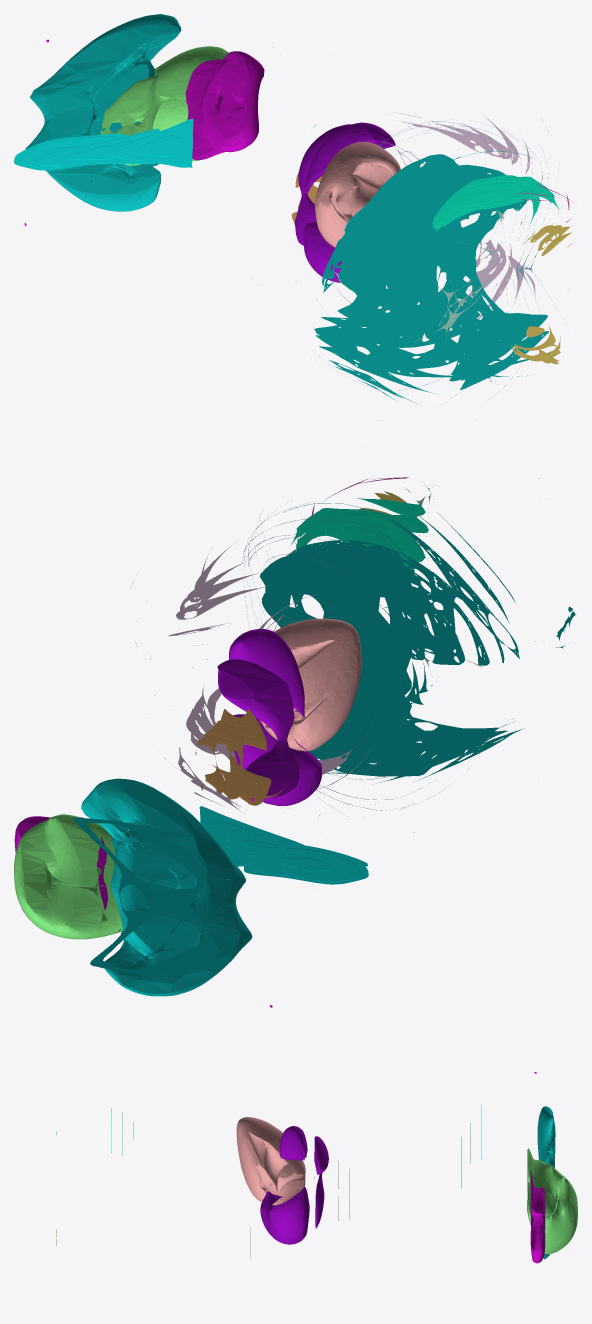
The picture shows the model from 3 angles, top to bottom: view 1: azimuth 30°, elevation 25°; view 2: azimuth 150°, elevation 25°; view 3: azimuth 270°, elevation 25°; orthographic projection. The views are drawn at different scales.
Visible parts, largest first — view 1: EMAPA16846, EMAPA16895, EMAPA16916, EMAPA17185, EMAPA16974, EMAPA17331, EMAPA16688, EMAPA17021, EMAPA16728, EMAPA17373, EMAPA17701, EMAPA17503; view 2: EMAPA16846, EMAPA16895, EMAPA16974, EMAPA16688, EMAPA17331, EMAPA17185, EMAPA17021, EMAPA16728, EMAPA18768, EMAPA17701, EMAPA16916; view 3: EMAPA17331, EMAPA16688, EMAPA16974, EMAPA16916, EMAPA16895.
Boxes of the visible parts, box(x1,y1,x2,y2) form: EMAPA16846: box(314, 151, 551, 403); EMAPA16895: box(25, 14, 181, 211); EMAPA16916: box(185, 51, 264, 160); EMAPA17185: box(14, 118, 193, 170); EMAPA16974: box(100, 46, 228, 165); EMAPA17331: box(314, 142, 400, 247); EMAPA16688: box(295, 122, 395, 282); EMAPA17021: box(432, 175, 559, 232); EMAPA16728: box(331, 112, 542, 340); EMAPA17373: box(511, 225, 572, 364); EMAPA17701: box(317, 121, 563, 398); EMAPA17503: box(412, 209, 542, 341); EMAPA16846: box(260, 503, 535, 783); EMAPA16895: box(73, 778, 252, 996); EMAPA16974: box(14, 814, 122, 939); EMAPA16688: box(217, 629, 321, 805); EMAPA17331: box(260, 618, 361, 751); EMAPA17185: box(199, 806, 368, 884); EMAPA17021: box(291, 498, 428, 573); EMAPA16728: box(164, 540, 370, 810); EMAPA18768: box(195, 708, 284, 805); EMAPA17701: box(242, 500, 469, 818); EMAPA16916: box(14, 816, 107, 915); EMAPA17331: box(236, 1117, 314, 1205); EMAPA16688: box(260, 1126, 328, 1244); EMAPA16974: box(527, 1148, 577, 1254); EMAPA16916: box(530, 1172, 545, 1263); EMAPA16895: box(537, 1106, 555, 1259).
Size of the model in its own units: 570 by 429 by 969.
